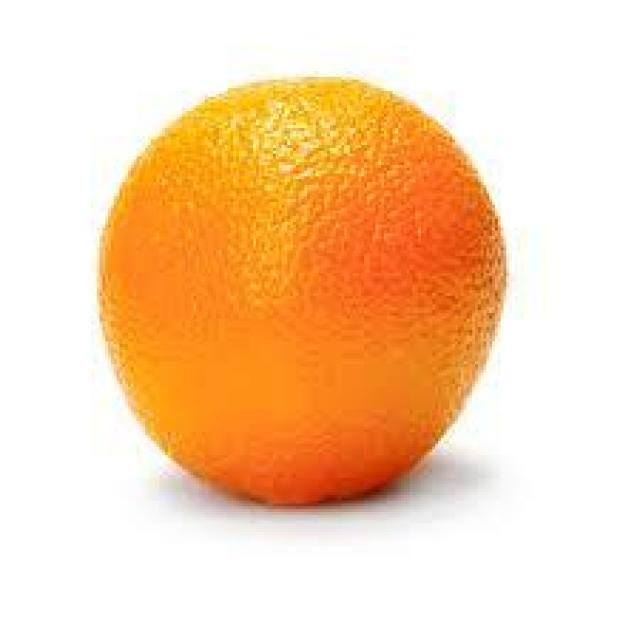Good_Orange: (97, 77, 509, 509)
